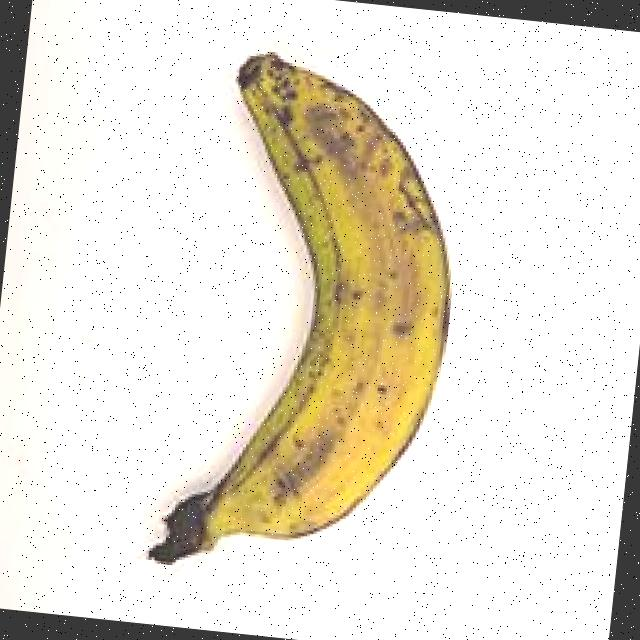Overripe: (62, 0, 531, 627)
